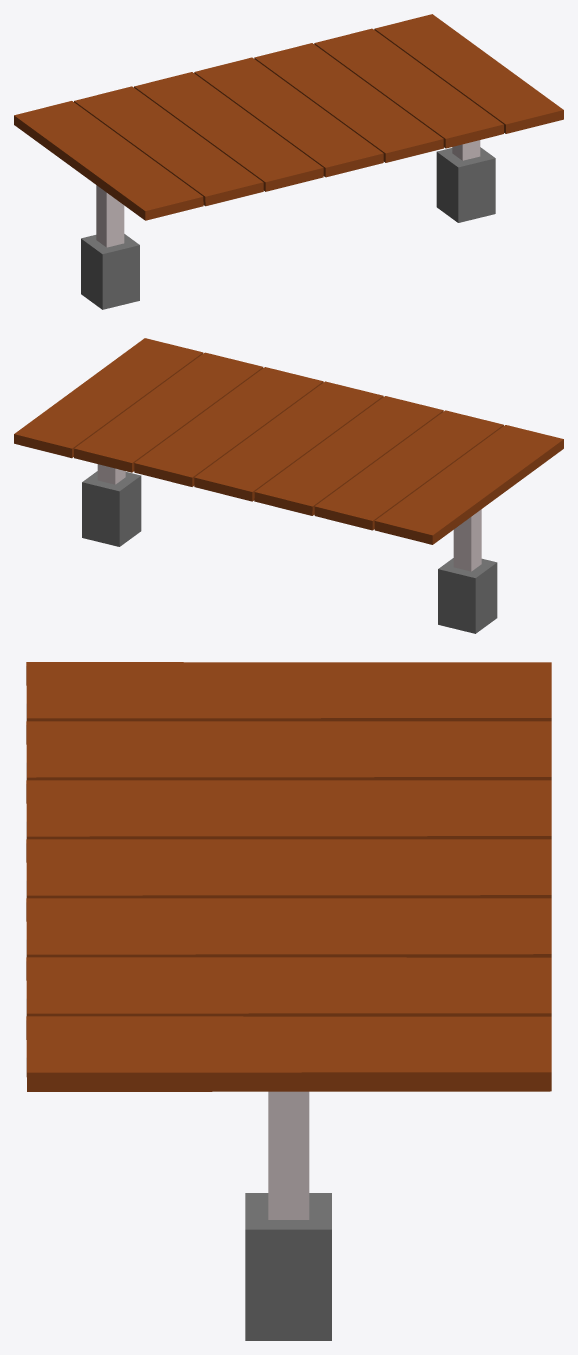
Rendered from Table.fbx.
3 renders of one model, top to bottom at view 1: azimuth 30°, elevation 25°; view 2: azimuth 150°, elevation 25°; view 3: azimuth 270°, elevation 25°, orthographic. The views are drawn at different scales.
Visible parts, largest first — view 1: Bank Brett, Tisch Verankerung, Stahlrahmen; view 2: Bank Brett, Tisch Verankerung, Stahlrahmen; view 3: Bank Brett, Tisch Verankerung, Stahlrahmen.
Part boxes in pixels (box(x1,y1,x2,y2)): Bank Brett: box(14, 14, 563, 220); Tisch Verankerung: box(81, 147, 495, 309); Stahlrahmen: box(96, 140, 480, 247); Bank Brett: box(14, 338, 563, 544); Tisch Verankerung: box(82, 471, 497, 633); Stahlrahmen: box(97, 464, 481, 571); Bank Brett: box(26, 662, 551, 1091); Tisch Verankerung: box(245, 1193, 331, 1340); Stahlrahmen: box(268, 1091, 309, 1219).
Bounding box in the file's own units: 411 × 133 × 223.
